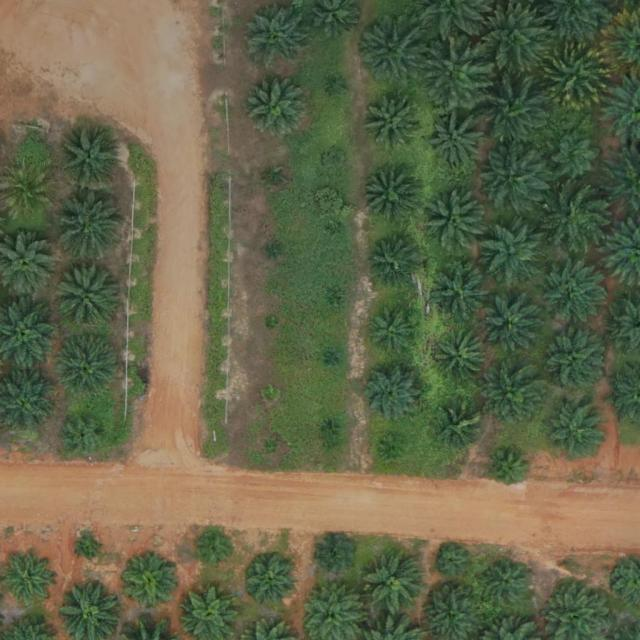Healthy: (357, 16, 428, 87), (479, 78, 549, 149), (481, 142, 551, 213), (422, 38, 492, 109), (357, 359, 427, 430), (477, 7, 547, 77), (57, 190, 127, 260), (480, 223, 543, 286), (245, 6, 308, 69), (244, 73, 307, 136), (364, 553, 427, 616), (546, 187, 608, 250), (424, 191, 486, 254), (429, 261, 491, 324), (483, 365, 545, 428), (542, 331, 604, 394), (545, 399, 607, 462), (58, 128, 120, 191), (542, 263, 604, 325), (55, 265, 117, 327), (58, 336, 120, 398), (367, 94, 422, 149), (367, 236, 422, 291), (435, 331, 490, 386), (246, 556, 301, 611), (485, 301, 539, 356), (430, 114, 484, 169), (363, 170, 417, 225), (125, 559, 179, 614), (552, 132, 599, 179), (439, 405, 486, 452), (484, 561, 531, 608)
Small: (369, 304, 424, 359), (62, 412, 109, 460), (488, 450, 528, 490), (197, 532, 236, 572), (315, 537, 355, 576), (438, 548, 469, 579), (324, 151, 348, 175), (382, 435, 406, 459), (79, 537, 102, 561), (332, 79, 348, 95), (326, 295, 342, 311), (262, 387, 278, 403), (267, 173, 283, 188), (267, 244, 283, 259), (265, 317, 280, 333), (264, 440, 280, 455), (327, 351, 342, 367), (322, 420, 338, 435), (330, 223, 345, 238)
Yellow: (540, 42, 611, 112)
